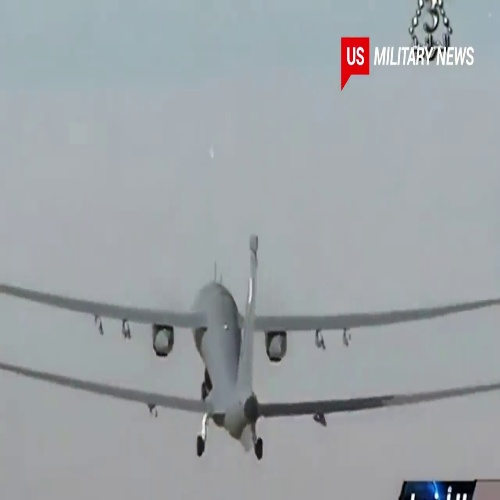uav346: (2, 235, 500, 463)
